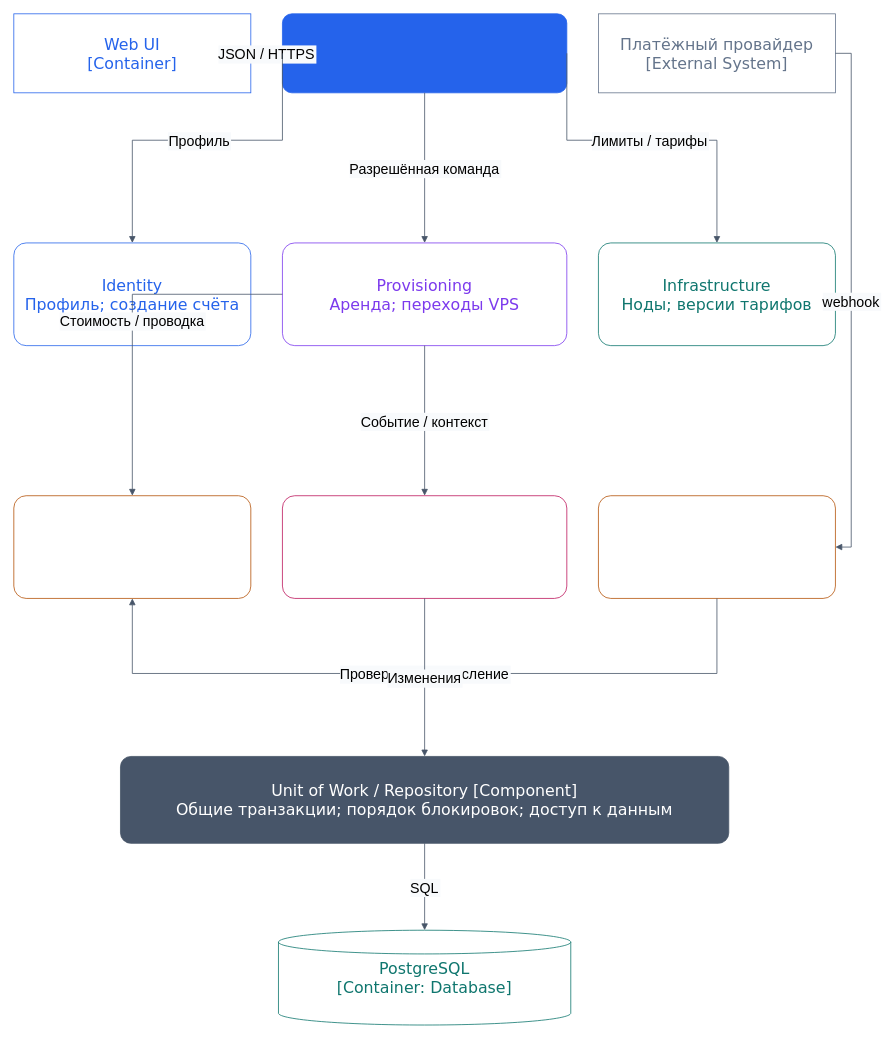
Image size: 895x1039. Some labels were removed from this diagram. The box of each missing label's shape, as (x1, y1, x2, y2) in pixels:
Billing Периоды; журнал; баланс: (13, 495, 251, 598)
Payment Adapter Подпись; сумма; ключ: (598, 495, 835, 598)
Security / Router [Component]: (282, 13, 567, 93)
Support / Audit Тикеты; события: (282, 495, 567, 598)
